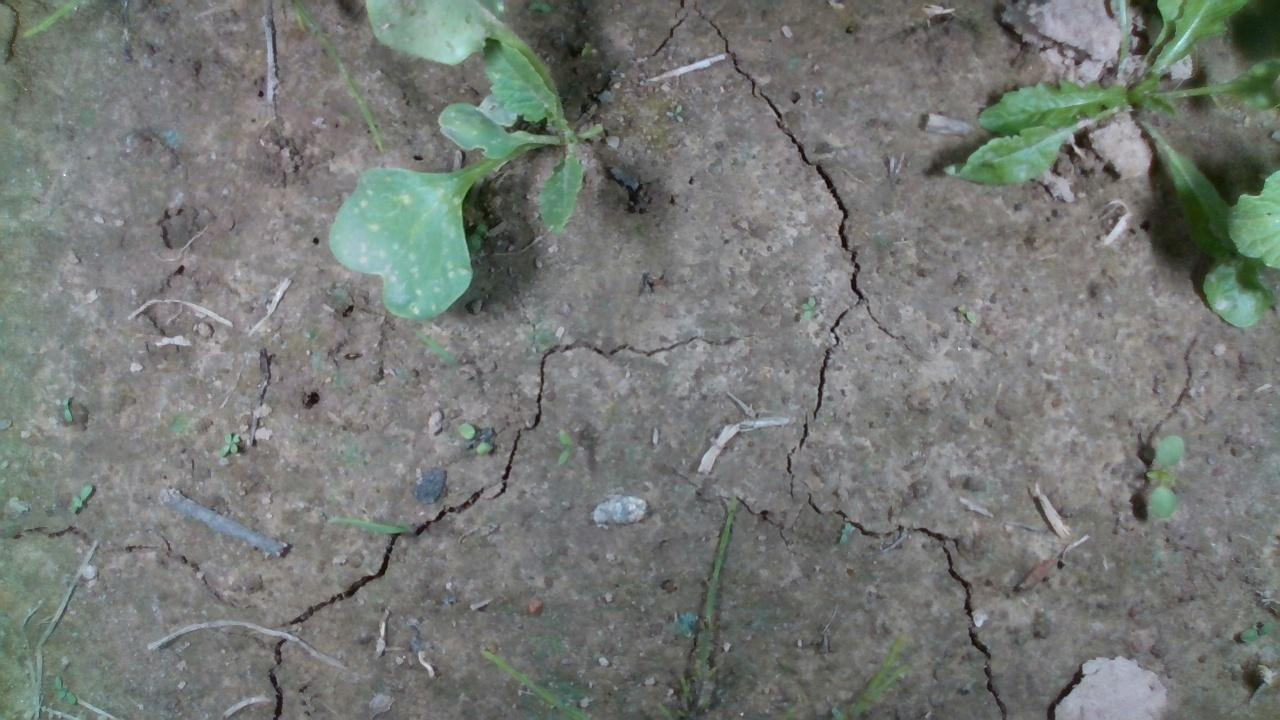weed: (1142, 431, 1184, 521), (455, 419, 493, 455), (555, 424, 573, 466)
